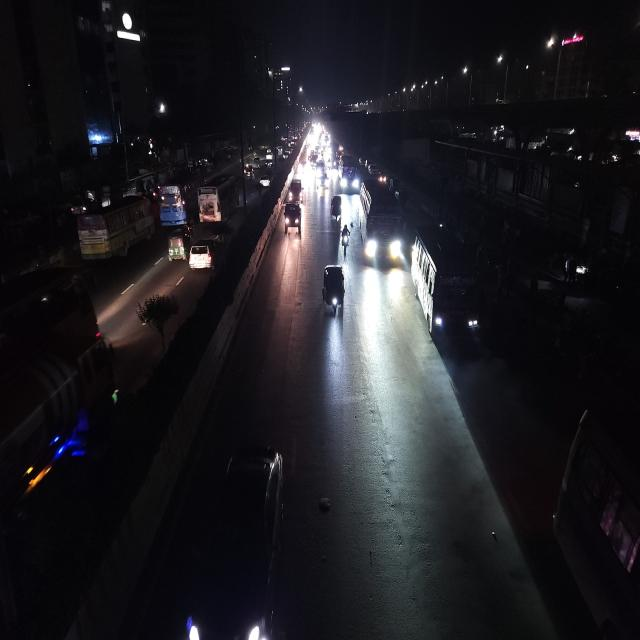bus: (412, 226, 482, 349), (78, 194, 152, 266), (358, 177, 404, 272), (194, 170, 240, 225), (157, 176, 193, 229), (338, 156, 360, 195)
car: (186, 232, 221, 276), (286, 176, 306, 203), (317, 170, 330, 194)
cng: (318, 262, 349, 320), (166, 230, 190, 267)
motorcycle: (339, 224, 352, 258)
pickup_van: (279, 200, 306, 237)
rickshaw: (328, 193, 344, 220)
